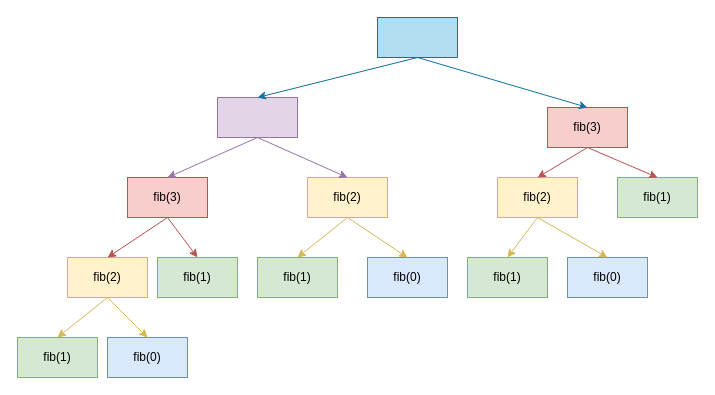
This 715x395 diagram has some shape labels left out. The shapes that lost their labels are listed below. From the top down, each one's centre as x and y in pixels, then its label:
[417,37]: fib(5)
[257,117]: fib(4)
